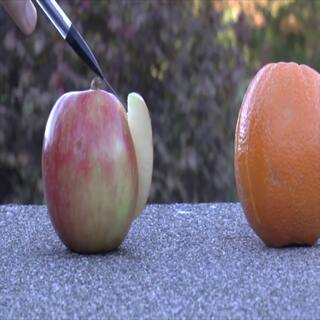apple: (38, 88, 158, 251)
orange: (228, 57, 320, 247)
